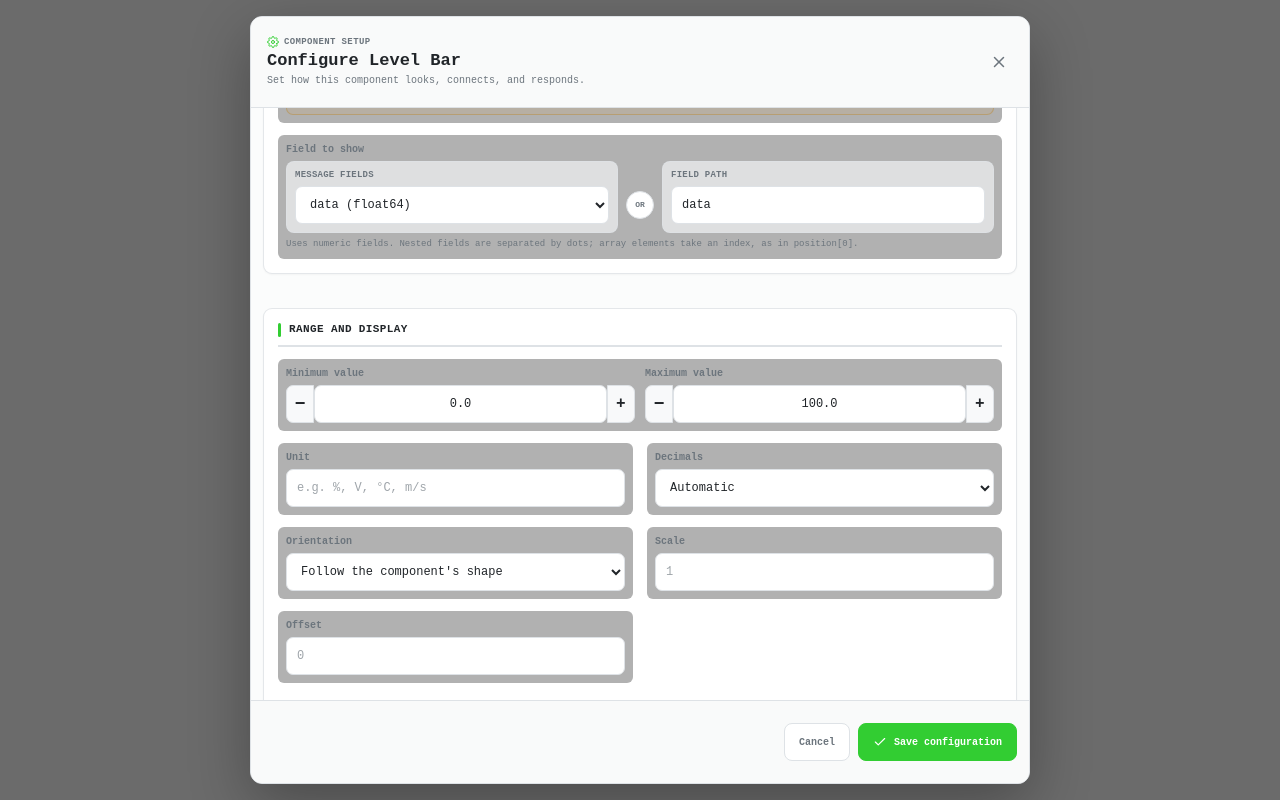
it: ComponentSettingsModal › value components › will not save a range that runs backwards
(page scrolled)
Replace the text in the number field labelled "Minimum value" with "100": {"x": 460, "y": 404} [314,385,606,423]
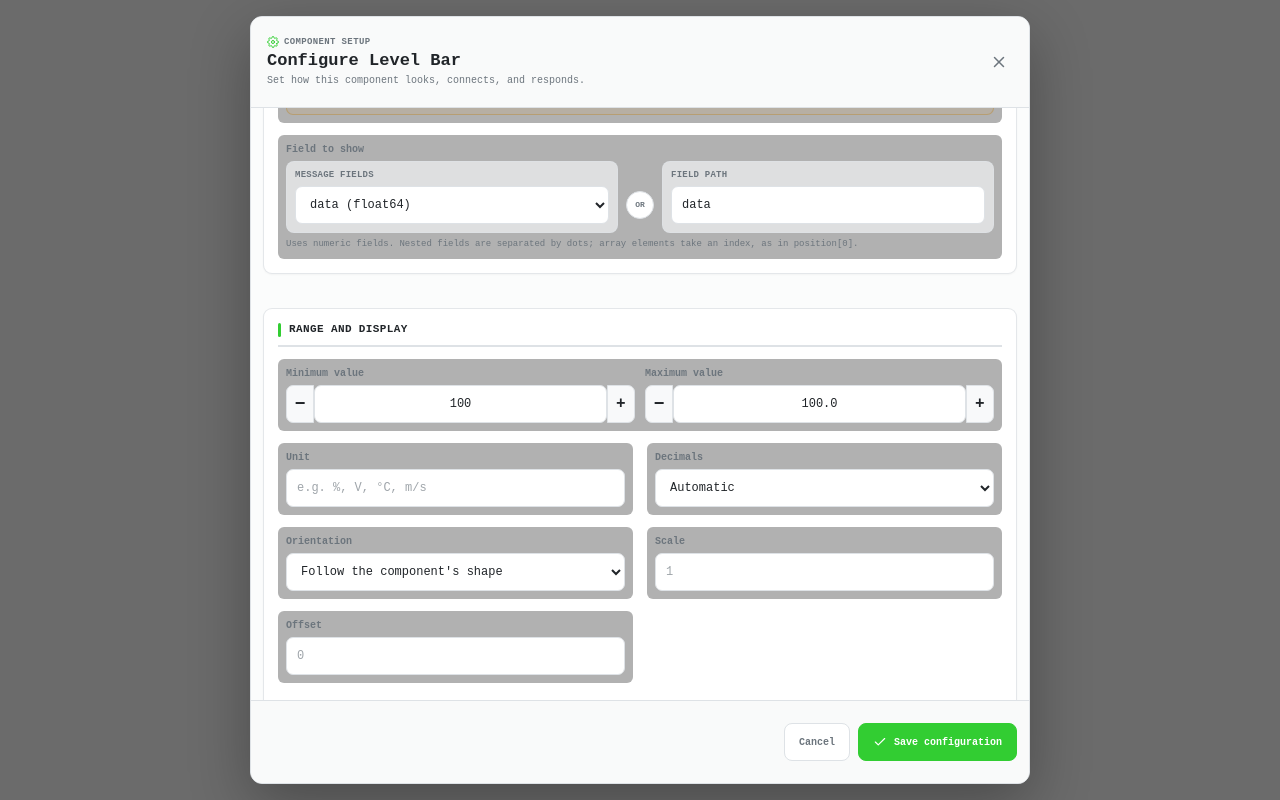
Leave the number field labelled "Minimum value", box [314,385,606,423]
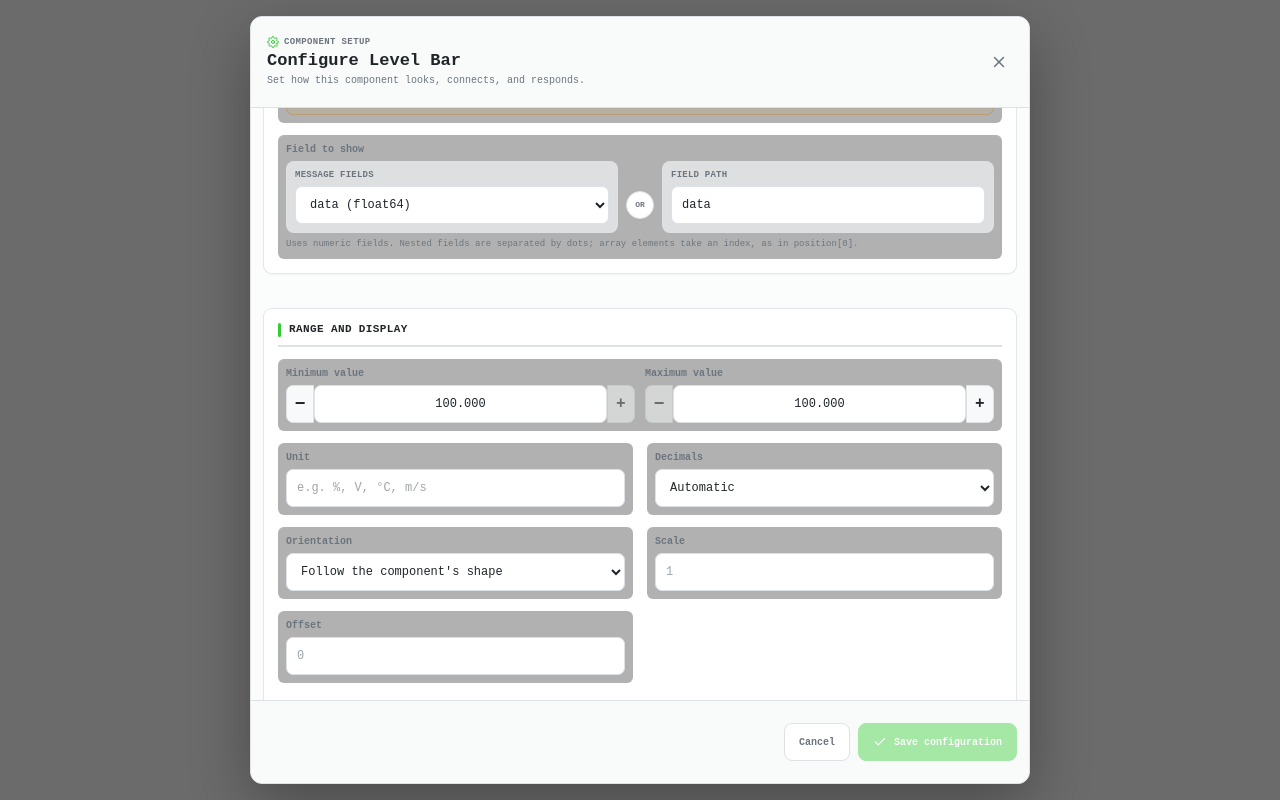
Now the button "Save configuration" is disabled, box [858,723,1017,761]
